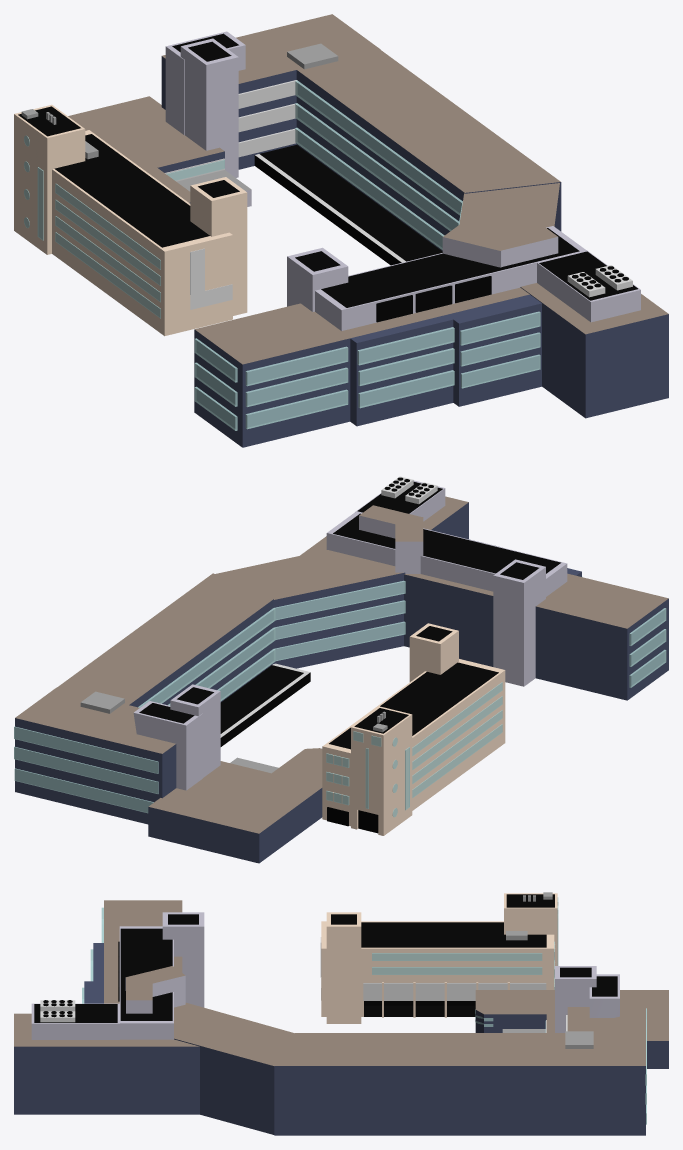
The model's file is POLICE BUILDING.fbx.
3 views of the same model, one above another, from view 1: azimuth 30°, elevation 25°; view 2: azimuth 150°, elevation 25°; view 3: azimuth 270°, elevation 25° (orthographic). The views are drawn at different scales.
Parts seen in each view (by area): view 1: group4_pCylinder16; view 2: group4_pCylinder16; view 3: group4_pCylinder16.
Part boxes in pixels (x1,y1,x2,y2): group4_pCylinder16: [14, 14, 668, 447]; group4_pCylinder16: [14, 476, 668, 863]; group4_pCylinder16: [14, 892, 668, 1135].
Bounding box in the file's own units: 407 × 113 × 667.
